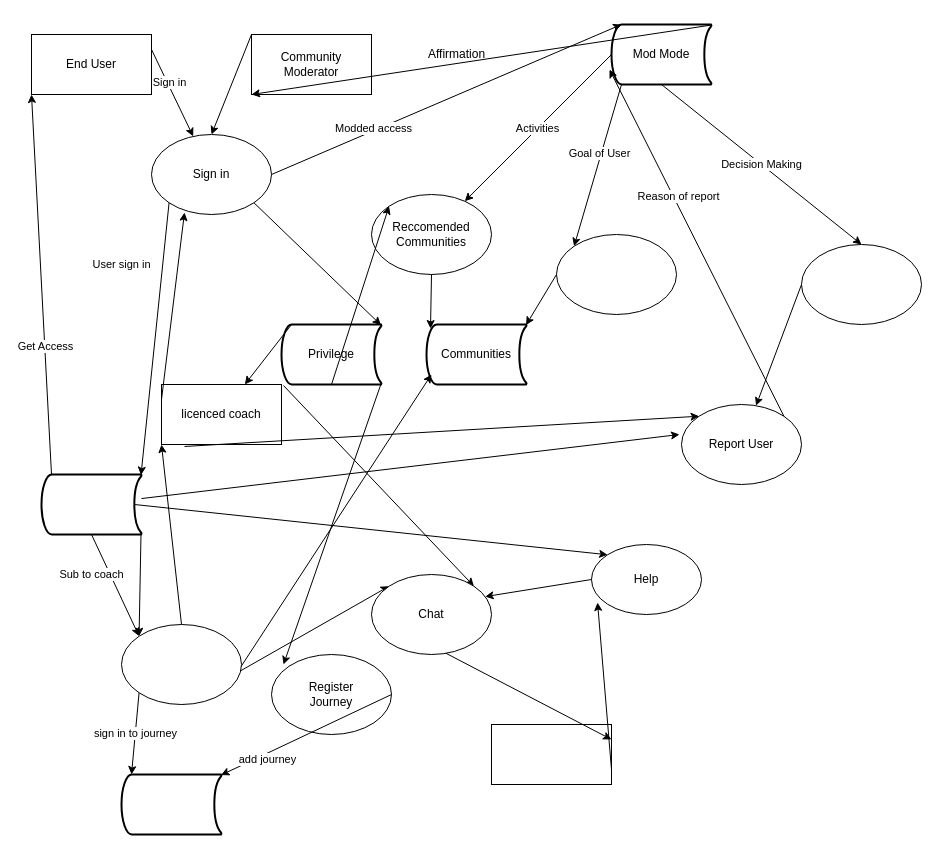
This 939x853 diagram has some shape labels left out. Each missing label, with the centre of its shape:
"Journeys" belongs at point (171, 804).
"Judgment" belongs at point (861, 284).
"Normal Mode" belongs at point (91, 504).
"Subscribe" belongs at point (181, 664).
"Tech Assist" belongs at point (551, 754).
"Update Community" belongs at point (616, 274).
